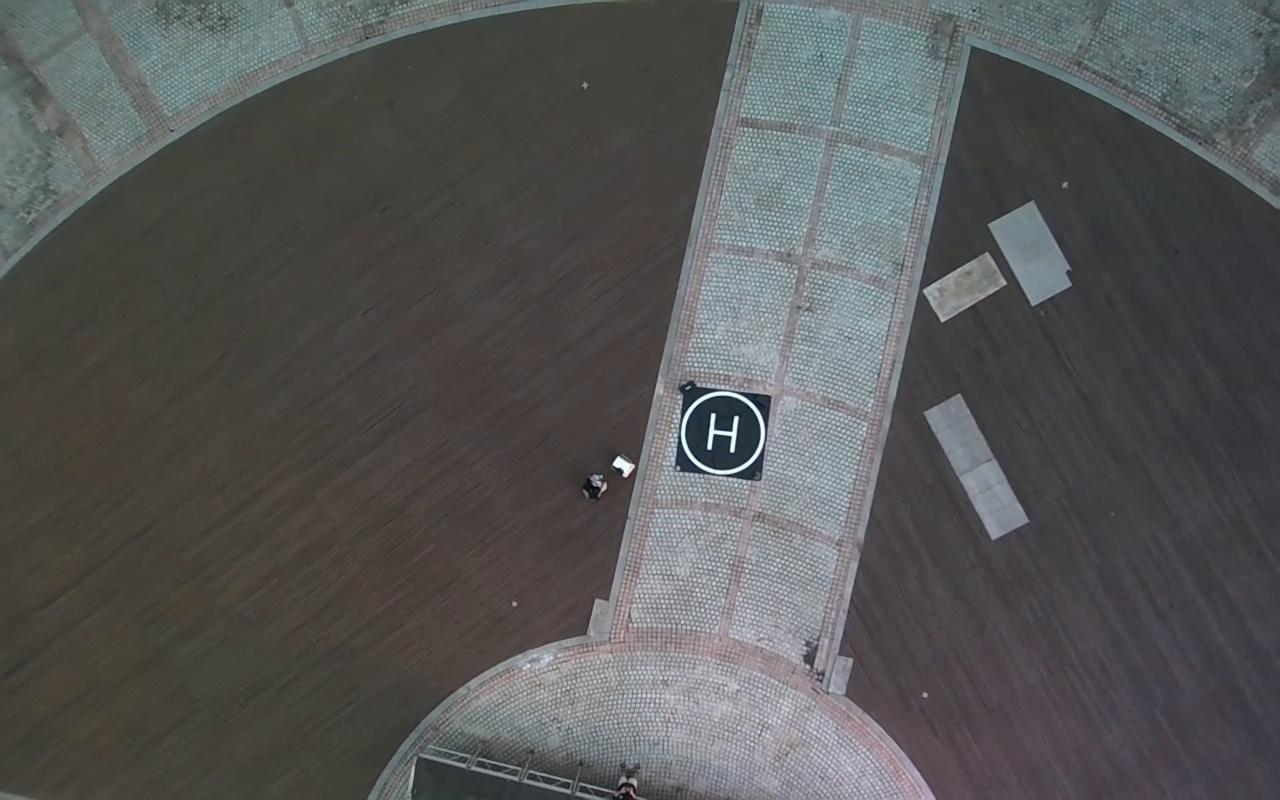H: (705, 413, 740, 451)
heliport: (680, 391, 767, 477)
